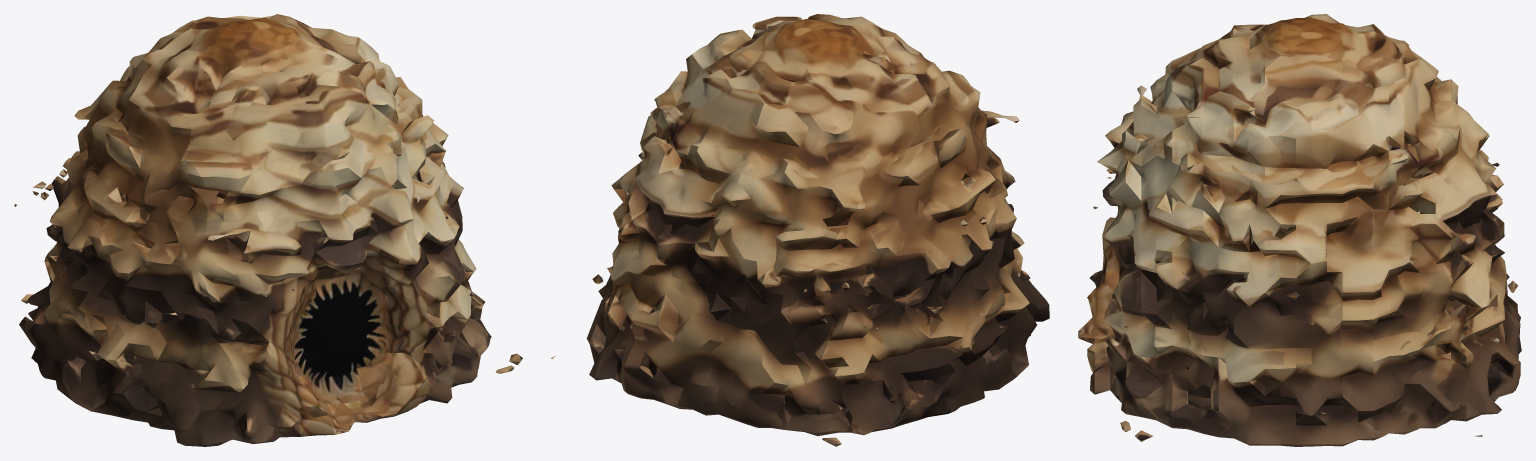
Rendered from CaveMainNest.glb.
The picture shows the model from 3 angles, left to right: view 1: azimuth 30°, elevation 25°; view 2: azimuth 150°, elevation 25°; view 3: azimuth 270°, elevation 25°; orthographic projection. The views are drawn at different scales.
Parts seen in each view (by area): view 1: tmp8hx264ru.ply; view 2: tmp8hx264ru.ply; view 3: tmp8hx264ru.ply.
Part boxes in pixels (<box>): tmp8hx264ru.ply: <box>14,14,522,446</box>; tmp8hx264ru.ply: <box>551,14,1049,446</box>; tmp8hx264ru.ply: <box>1078,14,1521,446</box>.
Size of the model in its own units: 1.82 by 1.42 by 1.75.
1 material, 1 textured.
